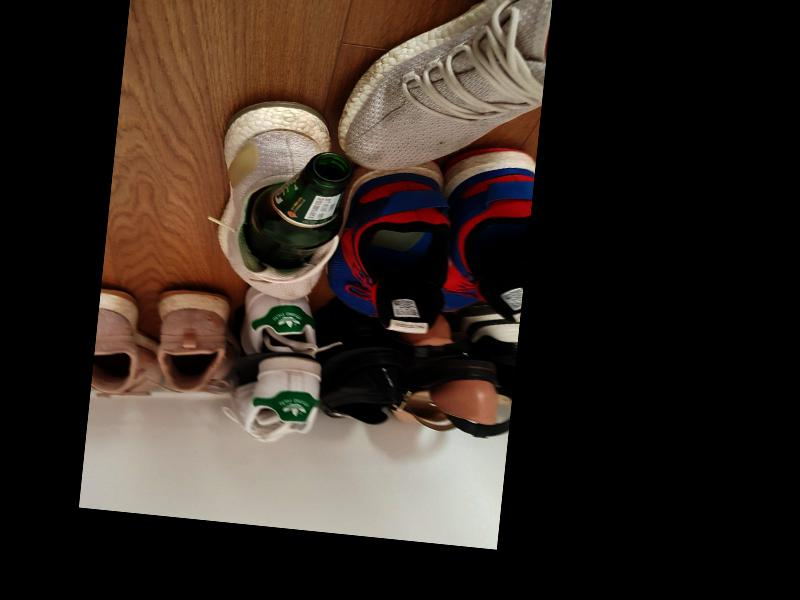Beer: (243, 145, 352, 272)
